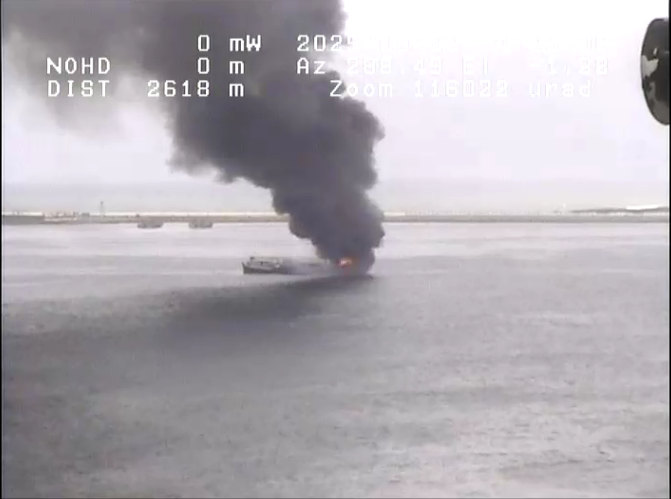FIRE_ONBOARD: (168, 44, 454, 330)
FISHING_VESSEL: (240, 228, 402, 296)
